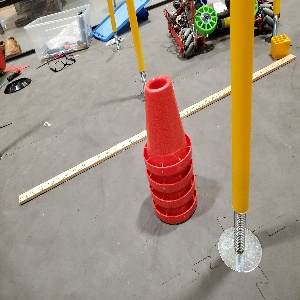Red_4: (144, 75, 195, 225)
